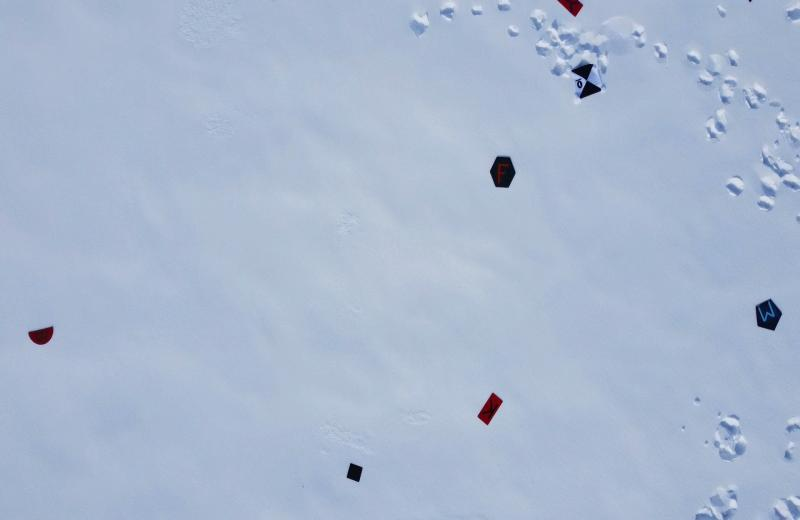Hexagon: (485, 151, 518, 196)
Pentagon: (751, 294, 784, 335)
Rectangle: (473, 389, 505, 430), (549, 0, 586, 21)
Semi Circle: (26, 323, 57, 347)
Square: (344, 460, 366, 485)
